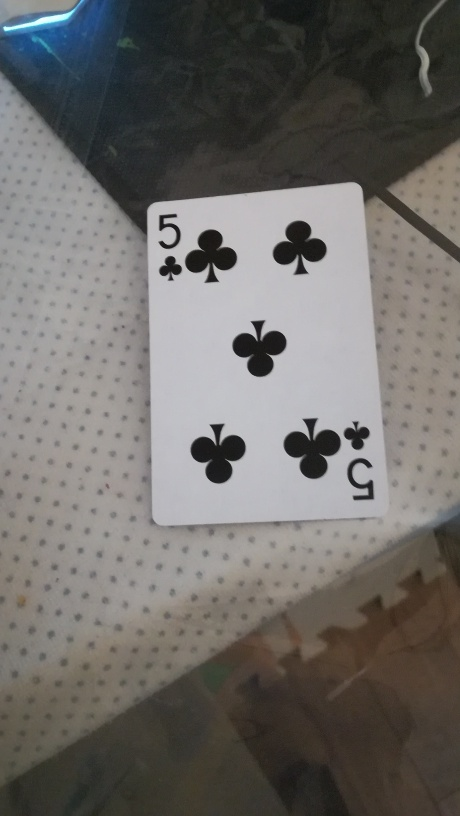mh 5: (147, 180, 390, 526)
